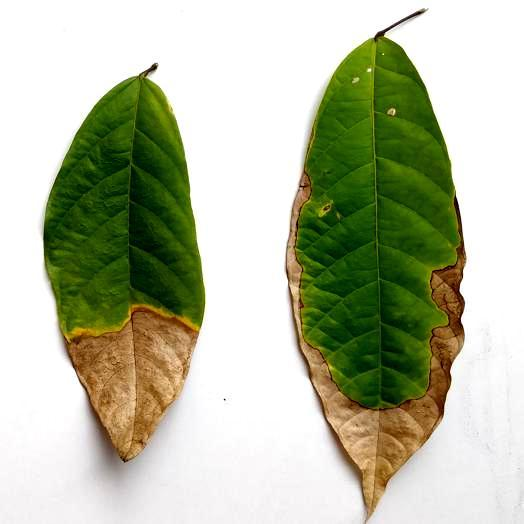Potassium: (287, 23, 464, 514), (44, 64, 204, 460)
